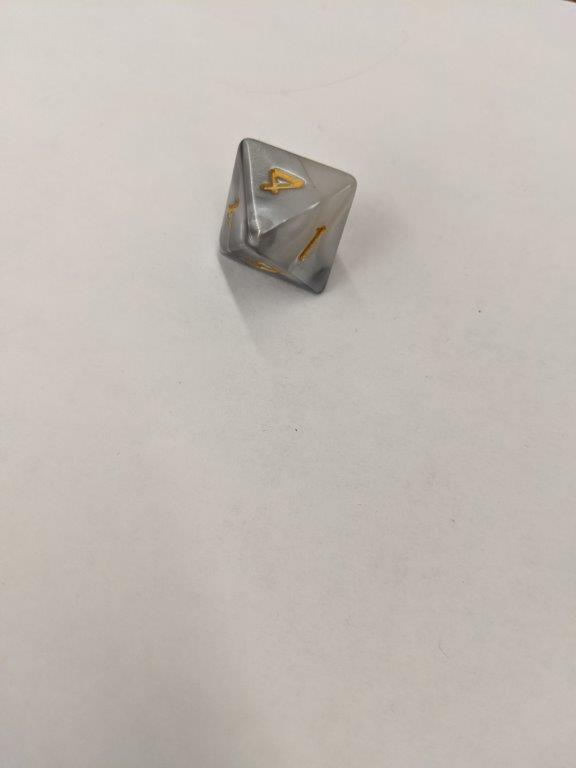d8-4: (218, 138, 356, 295)
